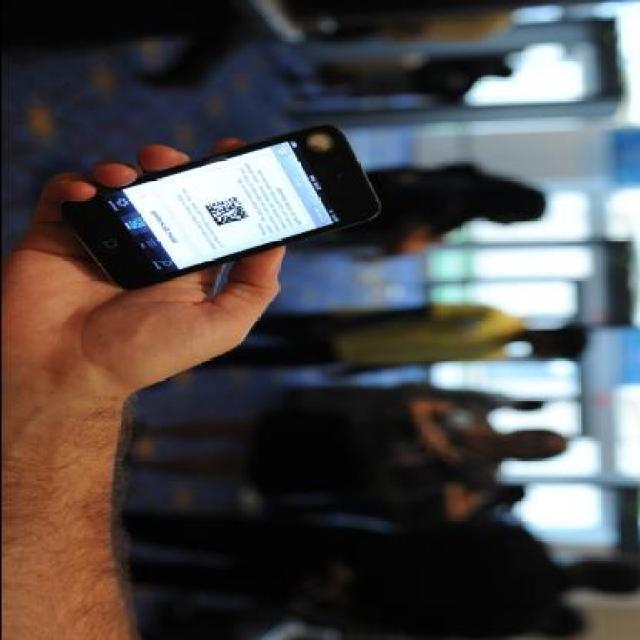phone: (52, 123, 383, 289)
